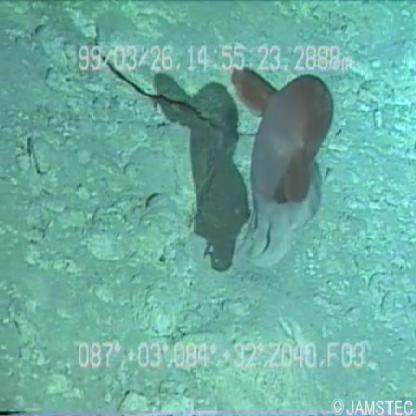Bio: (228, 62, 340, 266)
